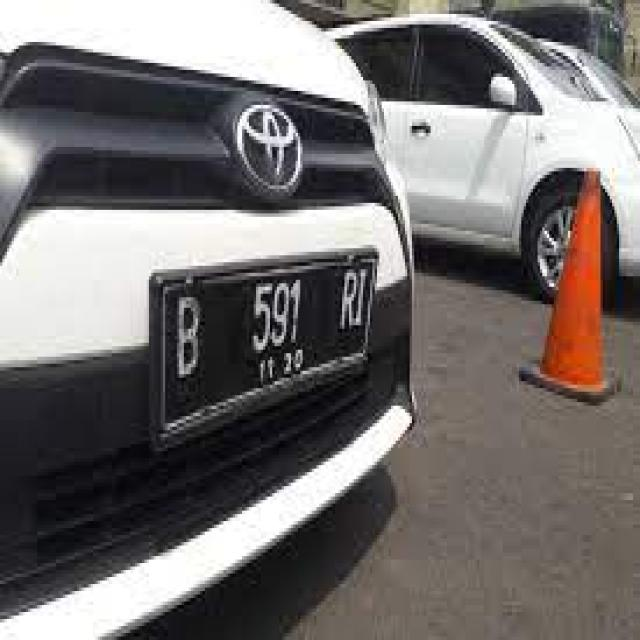lisence-plate: (126, 218, 379, 423)
